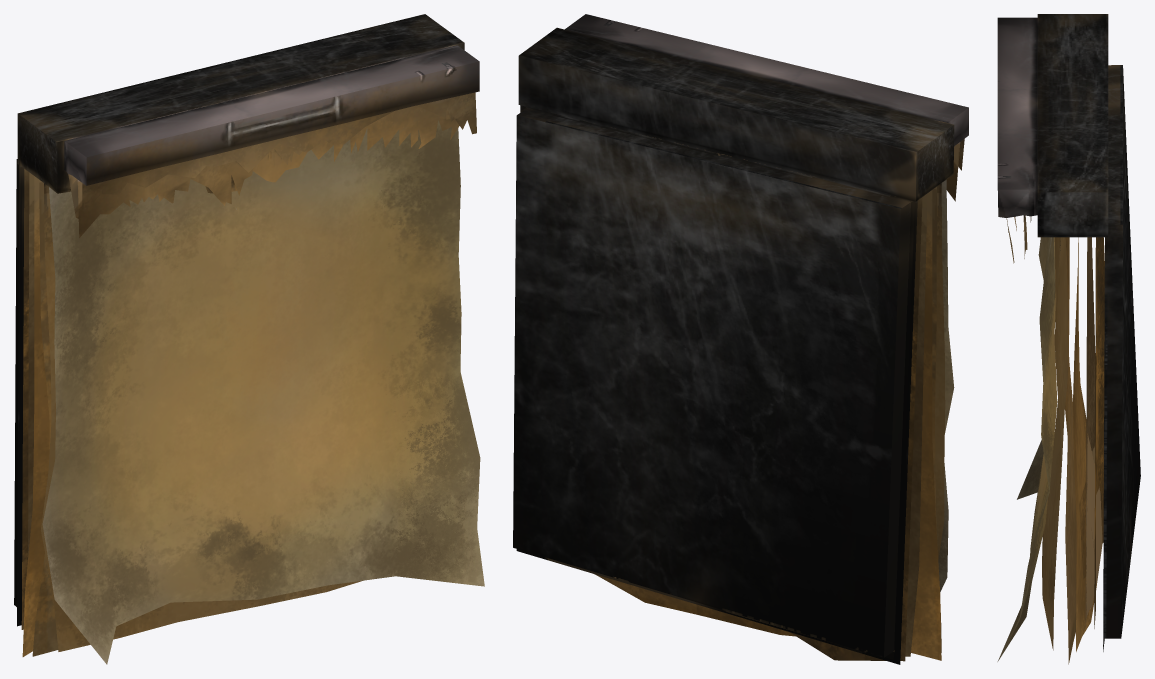
The model's file is new calendar base.fbx.
3 renders of one model, left to right at view 1: azimuth 30°, elevation 25°; view 2: azimuth 150°, elevation 25°; view 3: azimuth 270°, elevation 25°, orthographic. The views are drawn at different scales.
Visible parts, largest first — view 1: Cube.002, Cube.001; view 2: Cube.001, Cube.002; view 3: Cube.001, Cube.002.
Part boxes in pixels (box(x1,y1,x2,y2)): Cube.002: box(42, 120, 484, 664); Cube.001: box(14, 14, 479, 656); Cube.001: box(513, 14, 968, 664); Cube.002: box(938, 179, 954, 591); Cube.001: box(997, 14, 1140, 664); Cube.002: box(997, 237, 1057, 661).
Bounding box in the file's own units: 12.58 × 15.12 × 4.08.
Materials: 2 (2 with a texture image).
